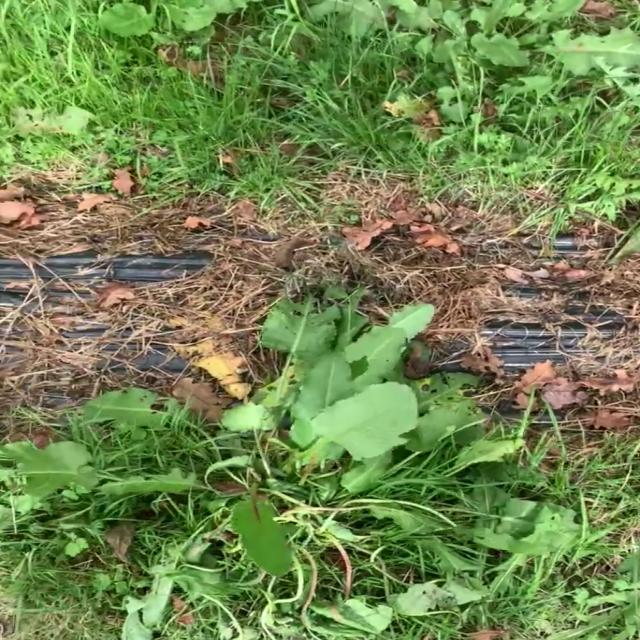organic waste: (12, 289, 568, 640), (315, 0, 640, 120), (54, 0, 254, 57)
